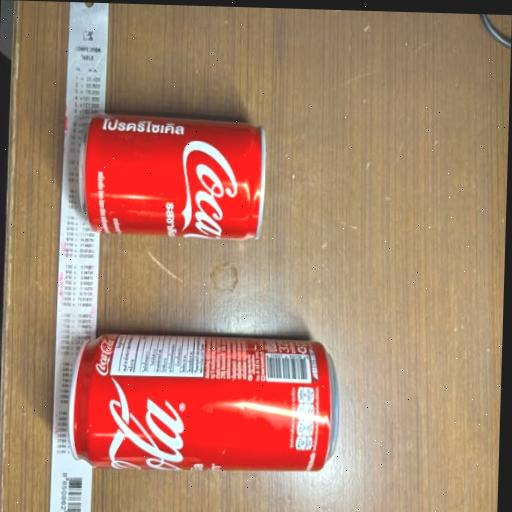canned: (51, 312, 351, 512), (63, 95, 290, 261)
